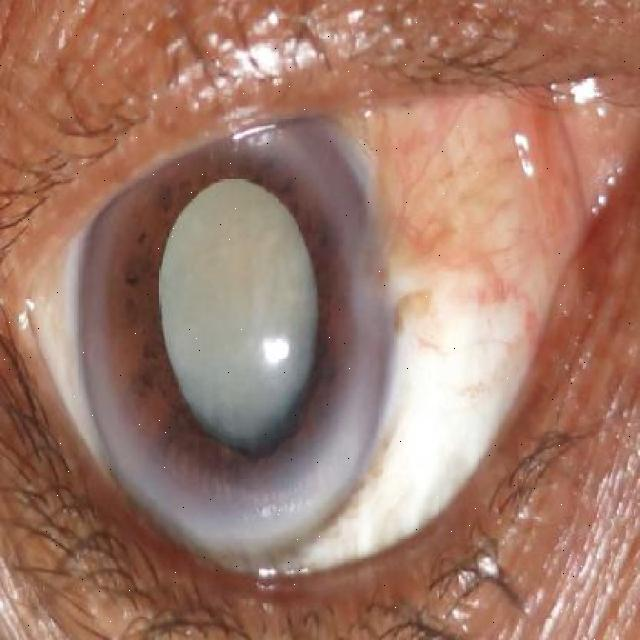Cataract: (74, 48, 397, 550)
